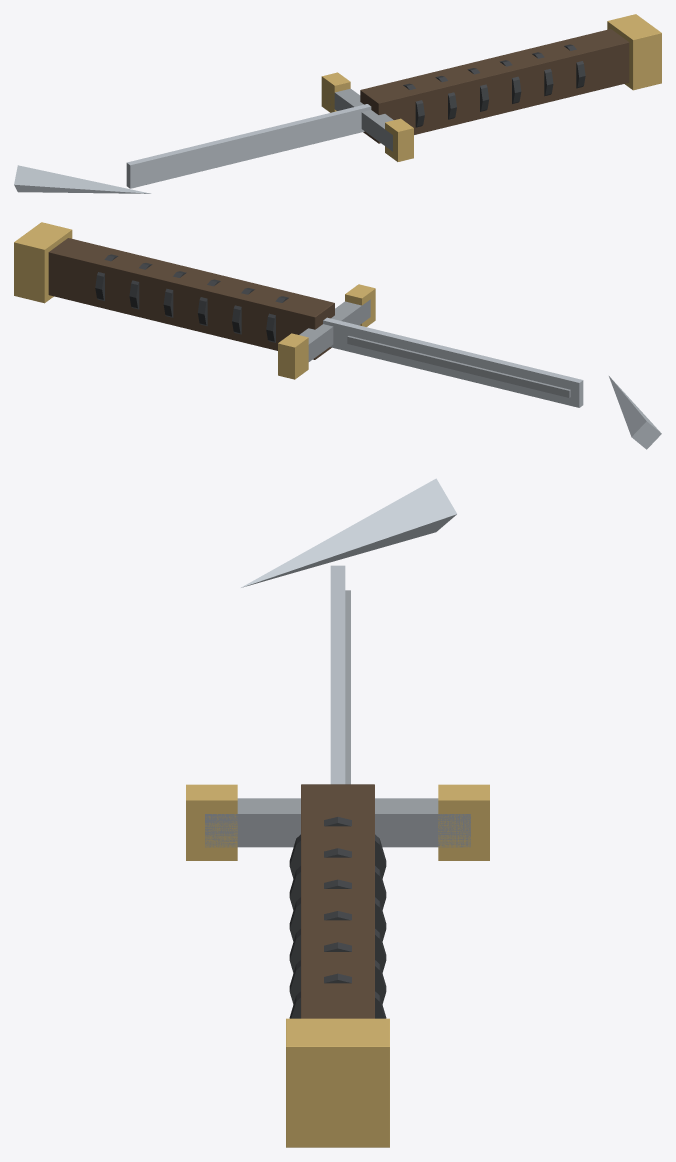
Rendered from knife_stiletto.glb.
3 renders of one model, top to bottom at view 1: azimuth 30°, elevation 25°; view 2: azimuth 150°, elevation 25°; view 3: azimuth 270°, elevation 25°, orthographic. The views are drawn at different scales.
Visible parts, largest first — view 1: Handle.001, BladeRoot.001, Pommel.001, BladeTip.001, Guard, GuardL, GuardR, Wrap, Wrap.005, Wrap.004, Wrap.003, Wrap.002; view 2: Handle.001, BladeRoot.001, Pommel.001, Ridge, Guard, BladeTip.001, GuardR, GuardL; view 3: Handle.001, Pommel.001, Guard, BladeTip.001, GuardR, GuardL, BladeRoot.001, Ridge.
Part boxes in pixels (x1,y1,x2,y2): Handle.001: (360,29,629,143); BladeRoot.001: (126,104,371,188); Pommel.001: (607,14,661,90); BladeTip.001: (14,165,151,193); Guard: (330,88,393,151); GuardL: (385,118,413,161); GuardR: (321,72,350,112); Wrap: (403,83,424,127); Wrap.005: (564,44,585,88); Wrap.004: (532,52,553,96); Wrap.003: (500,60,521,103); Wrap.002: (467,68,488,111); Handle.001: (48,238,334,359); BladeRoot.001: (323,317,583,407); Pommel.001: (14,222,72,303); Ridge: (347,336,570,397); Guard: (299,299,370,361); BladeTip.001: (609,376,661,449); GuardR: (278,333,308,379); GuardL: (345,284,375,326); Handle.001: (301,784,374,1018); Pommel.001: (286,1018,389,1147); Guard: (205,798,470,847); BladeTip.001: (241,478,456,587); GuardR: (438,784,489,860); GuardL: (186,784,237,860); BladeRoot.001: (330,565,345,784); Ridge: (345,590,350,784).
Size of the model in its own units: 0.3832 by 0.03 by 0.082.
